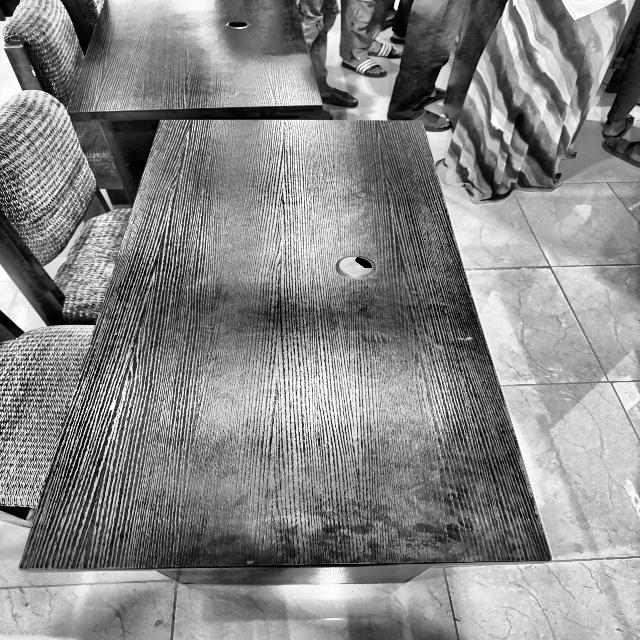chair: (0, 93, 115, 322)
table: (122, 118, 546, 617), (78, 0, 327, 113)
